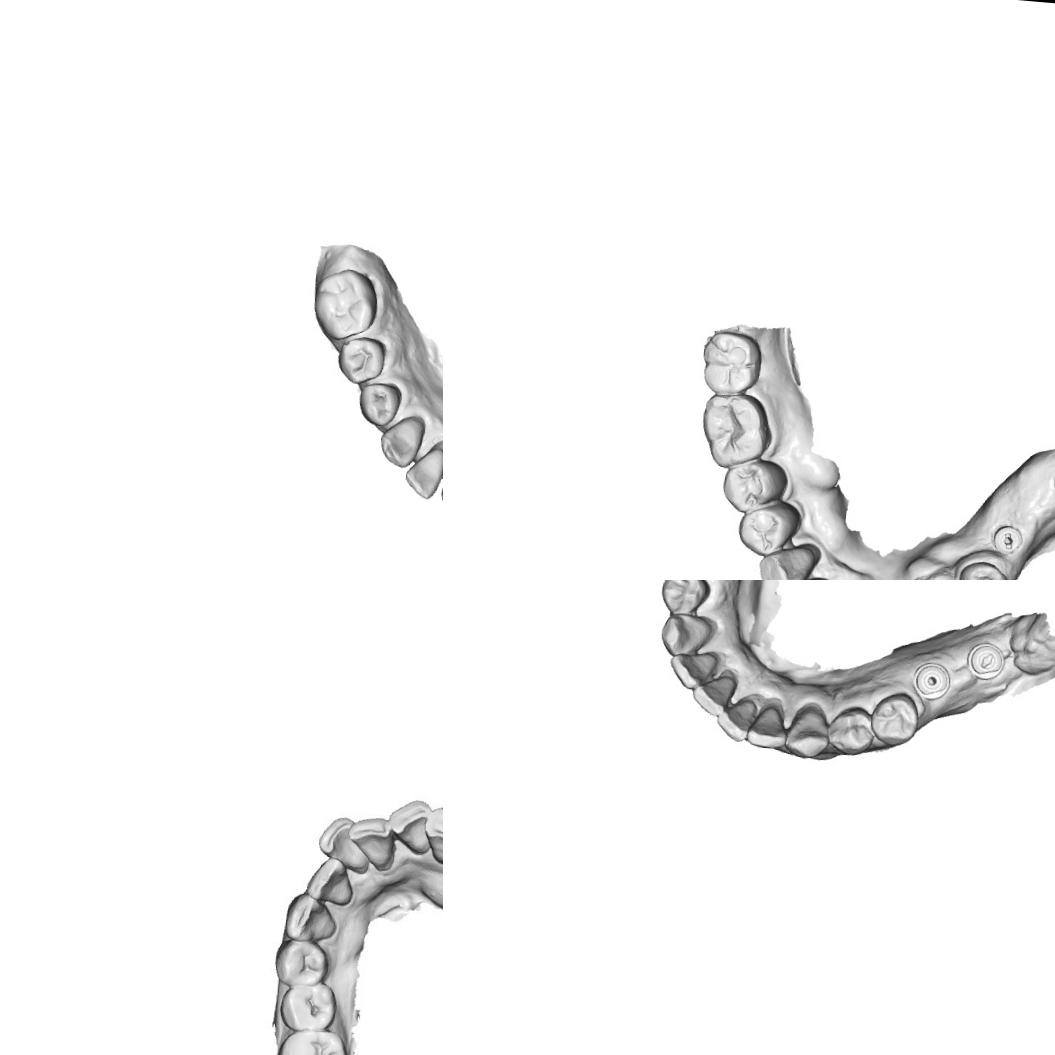canine: (278, 888, 342, 945), (375, 410, 427, 469), (657, 608, 714, 659), (783, 700, 832, 759), (754, 541, 817, 580), (421, 802, 443, 870)
implant: (910, 656, 954, 704)
implant_minus: (964, 639, 1008, 684), (989, 522, 1027, 558)
incisor: (314, 810, 370, 872), (345, 812, 398, 874), (384, 795, 432, 859), (665, 646, 720, 692), (306, 856, 358, 904), (744, 697, 790, 751), (401, 443, 443, 502), (689, 669, 739, 718), (712, 694, 758, 744)
molar: (696, 388, 775, 471), (308, 263, 380, 346), (698, 328, 764, 398), (273, 1026, 353, 1055)
premolar: (718, 454, 791, 516), (734, 499, 798, 558), (278, 980, 340, 1036), (867, 688, 922, 748), (333, 333, 388, 386), (270, 937, 326, 989), (826, 702, 876, 756), (355, 378, 404, 429), (657, 580, 712, 618), (954, 557, 1012, 580)
